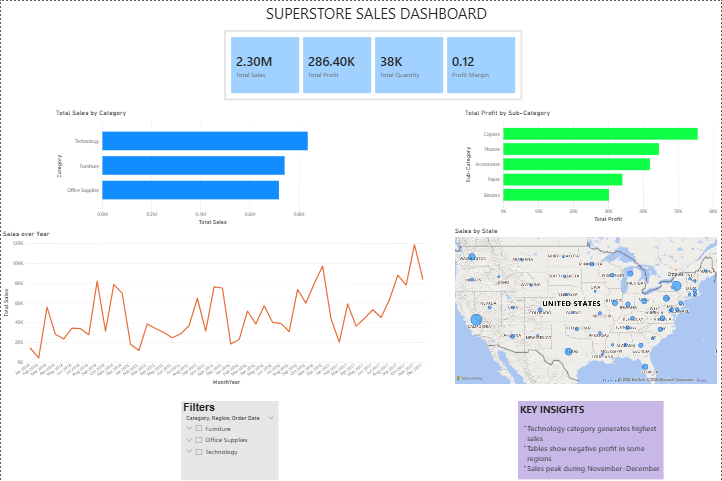

Layout of this report page (visuals, bound fields, positions):
{"tool":"powerbi","page":{"name":"Page 1","canvas":[1800,1200],"ordinal":0},"visuals":[{"type":"cardVisual","fields":{"Data":["Sample Superstore Data.Total Sales","Sample Superstore Data.Total Profit","Sample Superstore Data.Total Quantity","Sample Superstore Data.Profit Margin"]},"box":[558,72,746,176],"z":0},{"type":"clusteredBarChart","fields":{"Y":["Sample Superstore Data.Total Sales"],"Category":["Sample Superstore Data.Category"]},"box":[132.5,270,692.5,295],"z":1000},{"type":"clusteredBarChart","fields":{"Y":["Sample Superstore Data.Total Profit"],"Category":["Sample Superstore Data.Sub-Category"]},"box":[1155,270,640,287.5],"z":2000},{"type":"lineChart","title":" Sales over Year","fields":{"Y":["Sample Superstore Data.Total Sales"],"Category":["Sample Superstore Data.MonthYear"]},"box":[0,572,1068,392],"z":3000},{"type":"map","title":" Sales by State","fields":{"Category":["Sample Superstore Data.State"],"Size":["Sample Superstore Data.Total Sales"]},"box":[1130,566,664,398],"z":4000},{"type":"slicer","title":"       Filters","fields":{"Values":["Sample Superstore Data.Category","Sample Superstore Data.Region","Sample Superstore Data.Order Date"]},"box":[450,1000,244,198],"z":5000},{"type":"textbox","box":[1292,1000,364,196],"z":6000},{"type":"textbox","box":[657.5,0,635,72.5],"z":7000}]}

Visuals, with their boxes in screenshot pixels (x1, y1, x2, y2), scaled from the page's 1800x1200 canvas onto the 722x481 screenshot:
cardVisual - Sample Superstore Data.Total Sales x Sample Superstore Data.Total Profit: {"x1": 224, "y1": 29, "x2": 523, "y2": 99}
clusteredBarChart - Sample Superstore Data.Total Sales x Sample Superstore Data.Category: {"x1": 53, "y1": 108, "x2": 331, "y2": 226}
clusteredBarChart - Sample Superstore Data.Total Profit x Sample Superstore Data.Sub-Category: {"x1": 463, "y1": 108, "x2": 720, "y2": 223}
" Sales over Year" lineChart: {"x1": 0, "y1": 229, "x2": 428, "y2": 386}
" Sales by State" map: {"x1": 453, "y1": 227, "x2": 720, "y2": 386}
"       Filters" slicer: {"x1": 180, "y1": 401, "x2": 278, "y2": 480}
textbox: {"x1": 518, "y1": 401, "x2": 664, "y2": 479}
textbox: {"x1": 264, "y1": 0, "x2": 518, "y2": 29}
